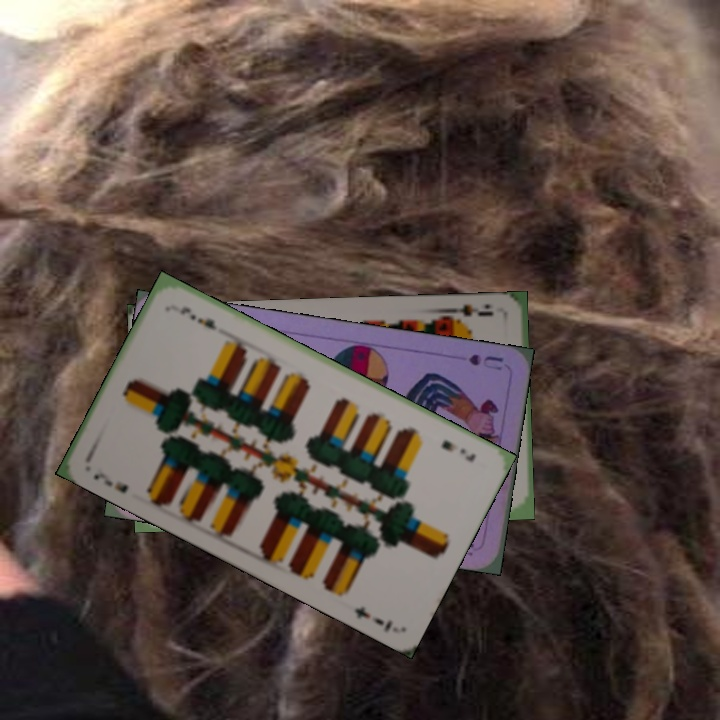E7: (437, 436, 478, 465), (89, 468, 131, 496)
S9: (442, 300, 496, 327)
SU: (464, 350, 506, 373)
